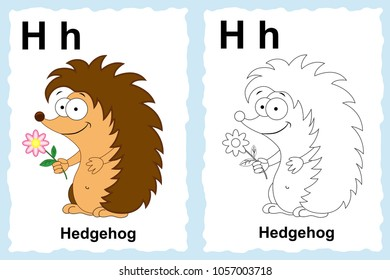animal: (234, 53, 365, 221), (31, 60, 167, 220)
flower: (221, 129, 271, 180), (22, 128, 68, 181)
